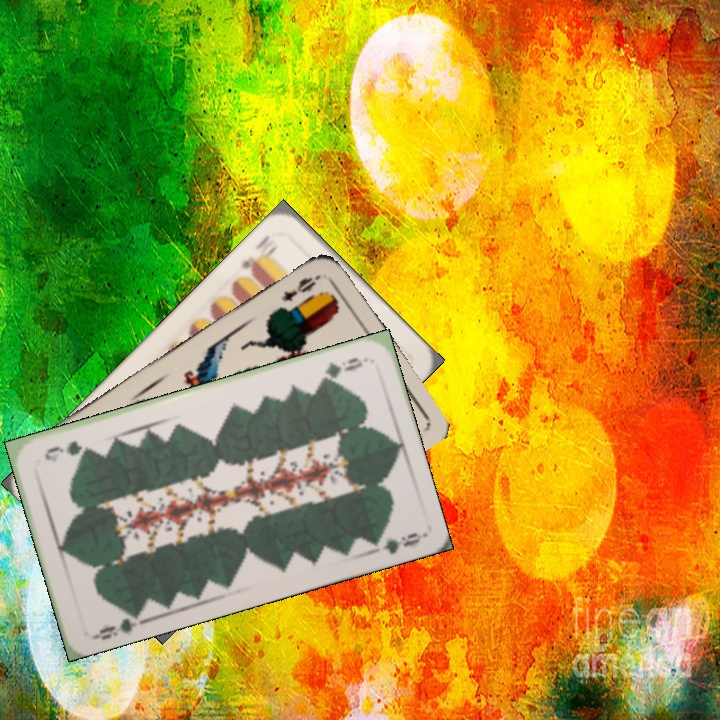E10: (237, 230, 280, 278)
EO: (276, 270, 324, 304)
G9: (88, 607, 145, 643), (315, 353, 370, 385)
